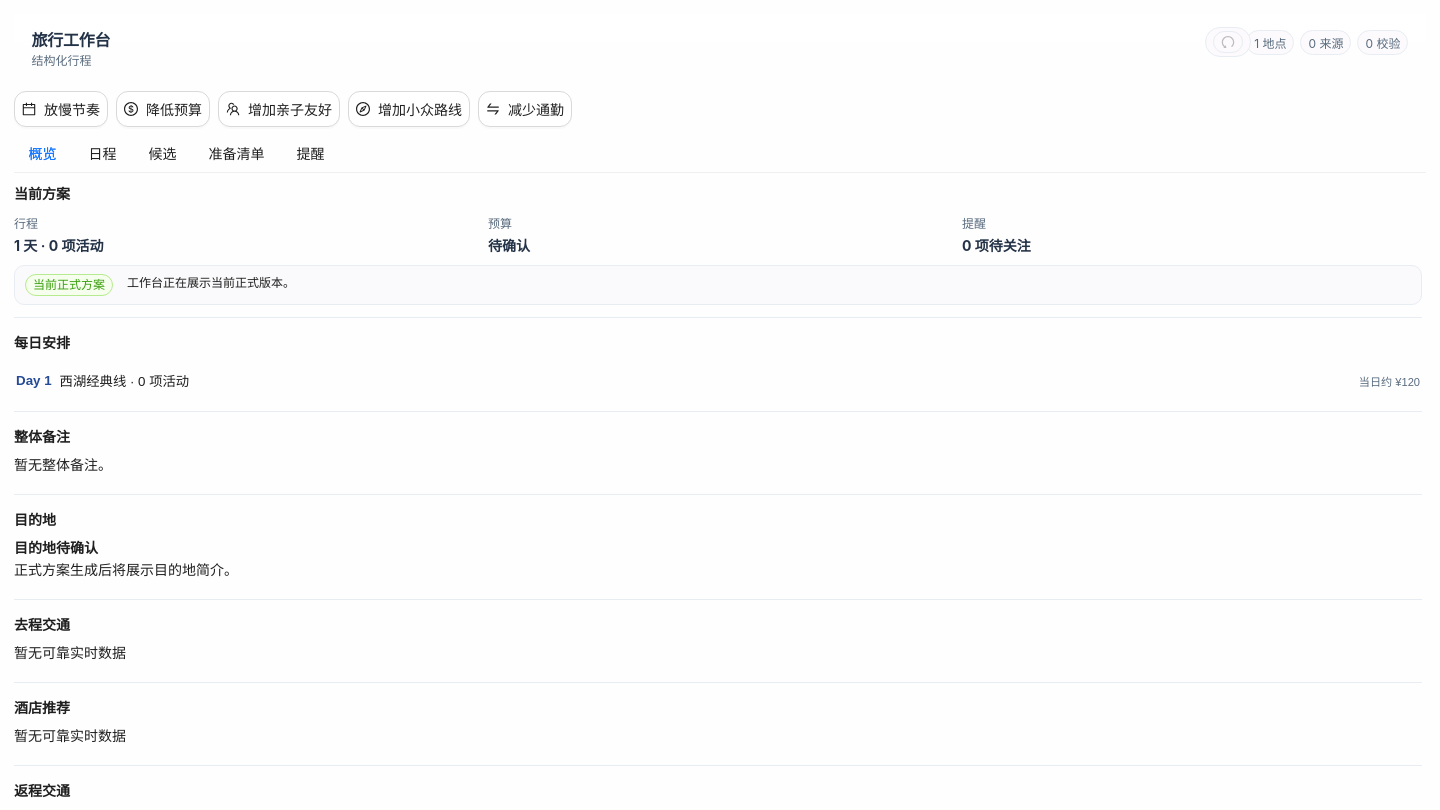
it: TripWorkspace › explains an empty transport day using its saved transfer anchors
Click the tab "日程": (102, 154) x1=88 y1=143 x2=116 y2=165
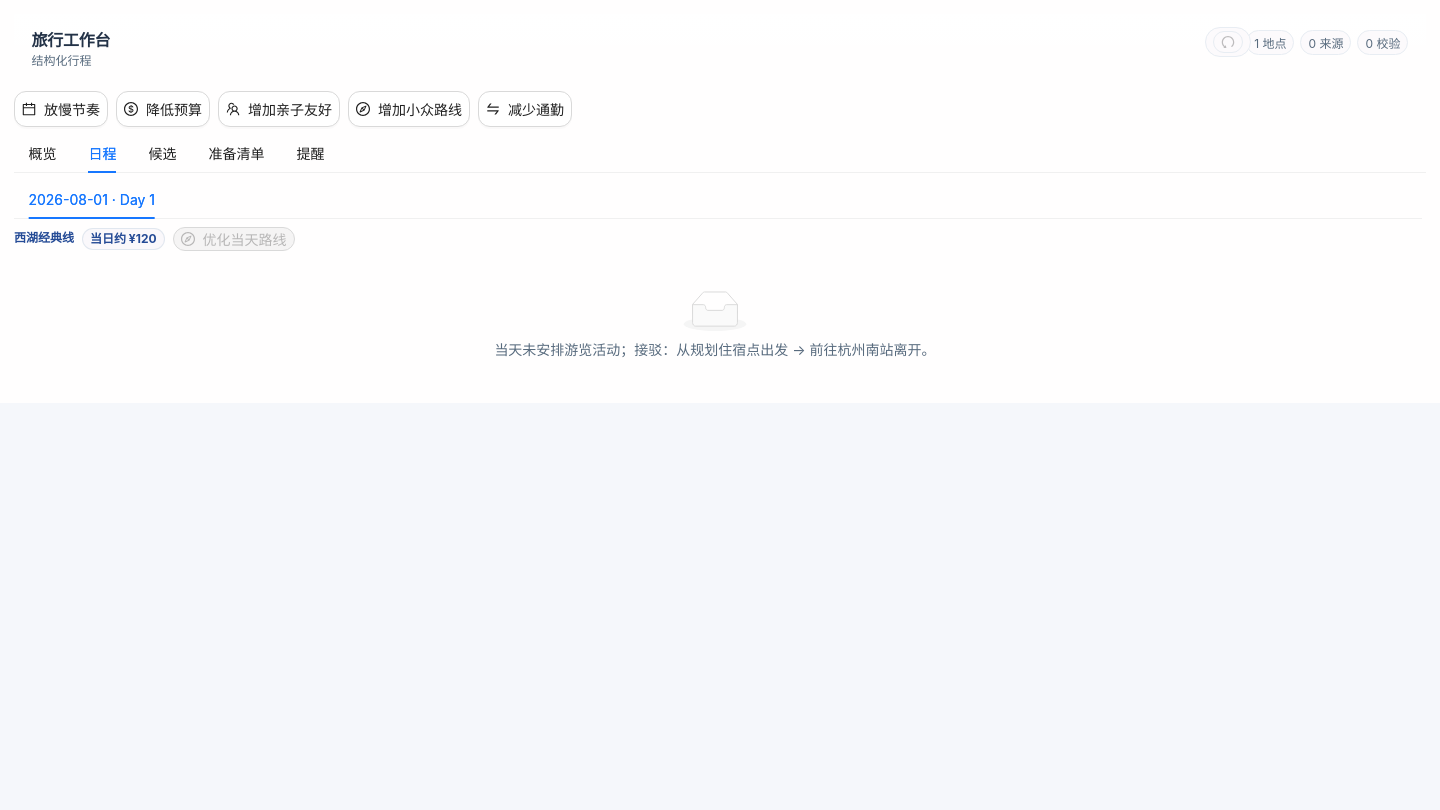
Expected: the text "当天未安排游览活动；接驳：从规划住宿点出发 → 前往杭州南站离开。" is shown, x1=494 y1=341 x2=936 y2=358
